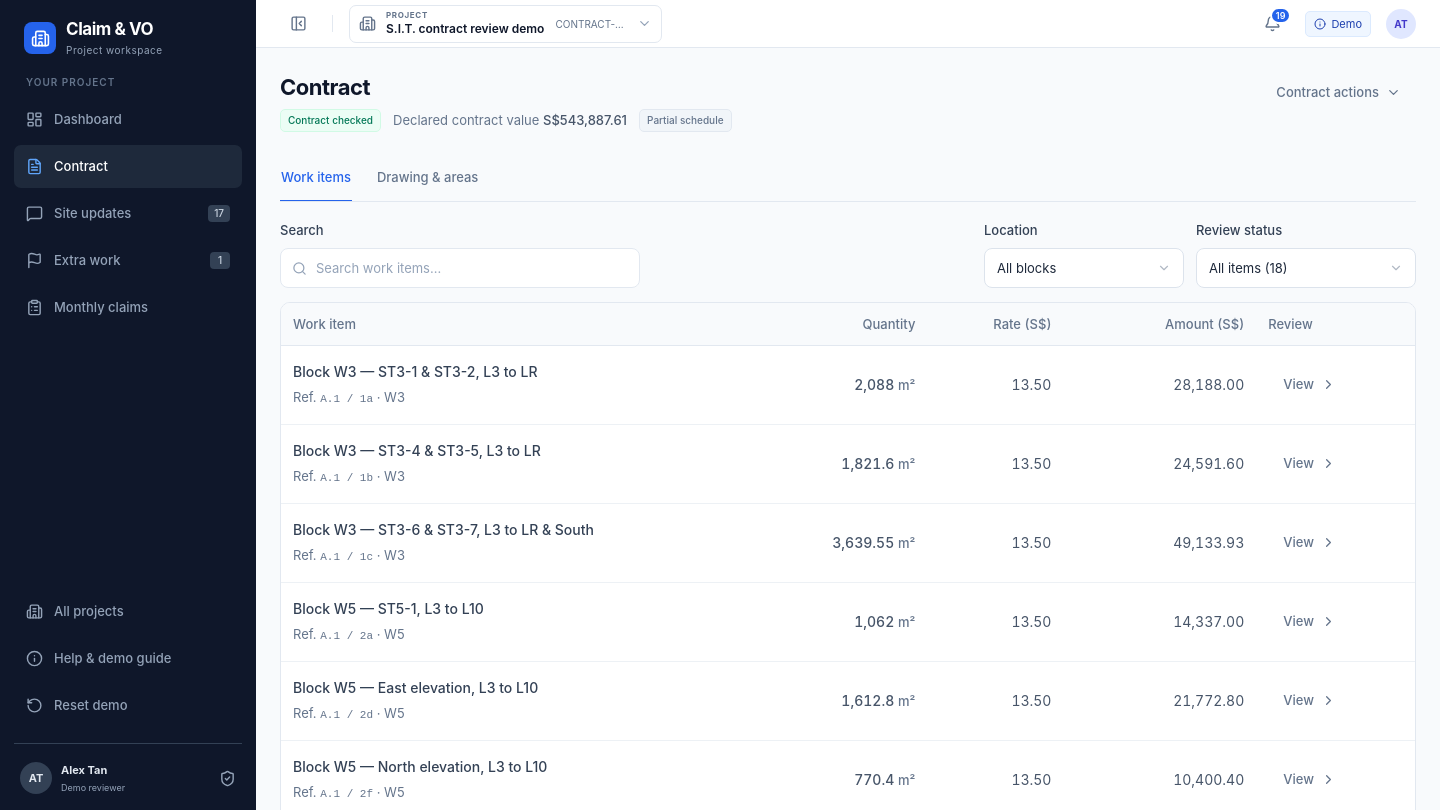
it: contract work list and source review stay connected › keeps one clear action beside visible filters when no items match and restores the list without changing saved claims
The image size is (1440, 810).
In the field named "Search work items": (472, 268) left=316, top=249, right=628, bottom=287, type "no-such-contract-work-item"
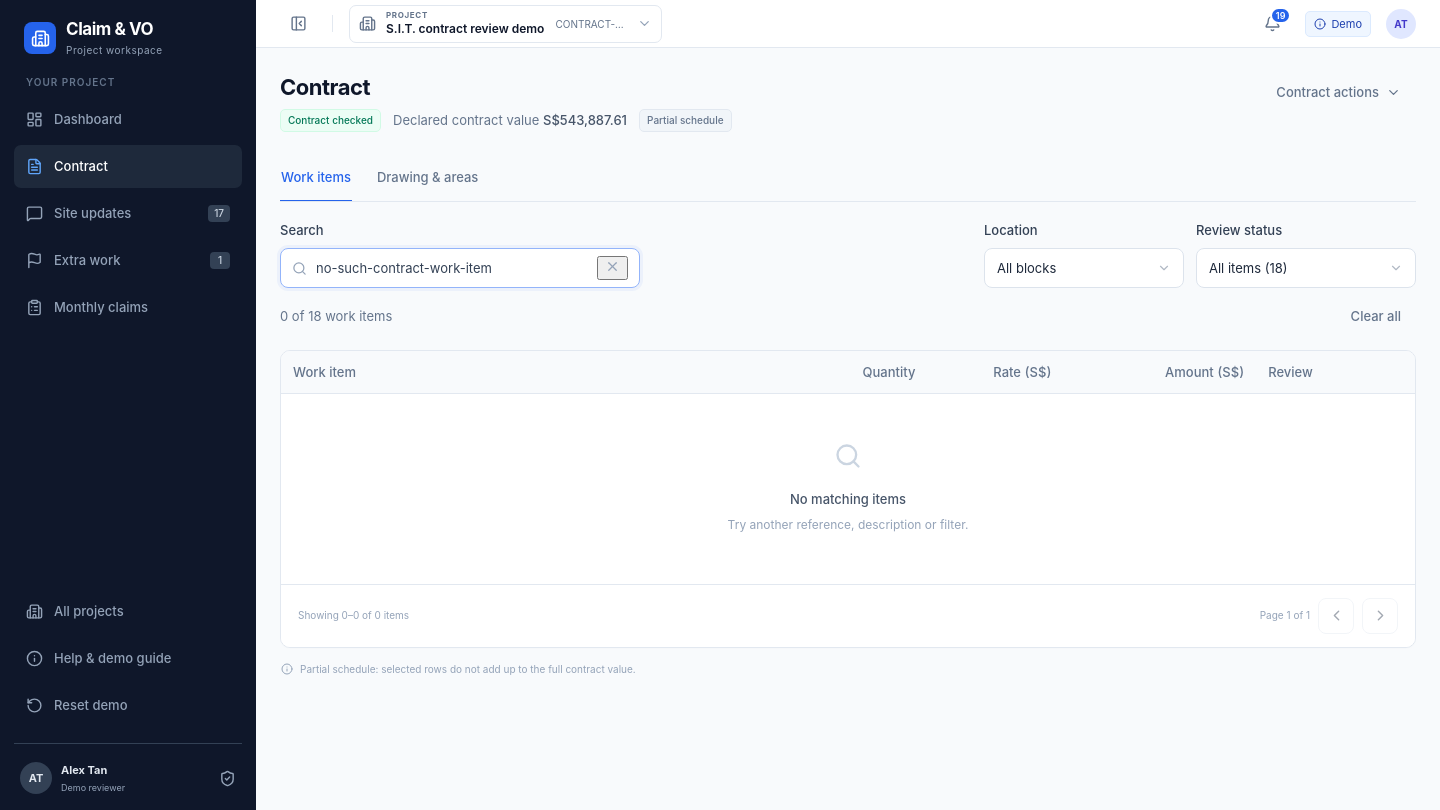
Expected: the dropdown named "Filter by block" is shown, left=984, top=248, right=1184, bottom=288
Result: the heading "No matching items" is shown at left=790, top=491, right=906, bottom=507
Result: the number of buttons "Clear all" is 1
Click the button "Clear all": (1376, 316) left=1336, top=296, right=1416, bottom=336
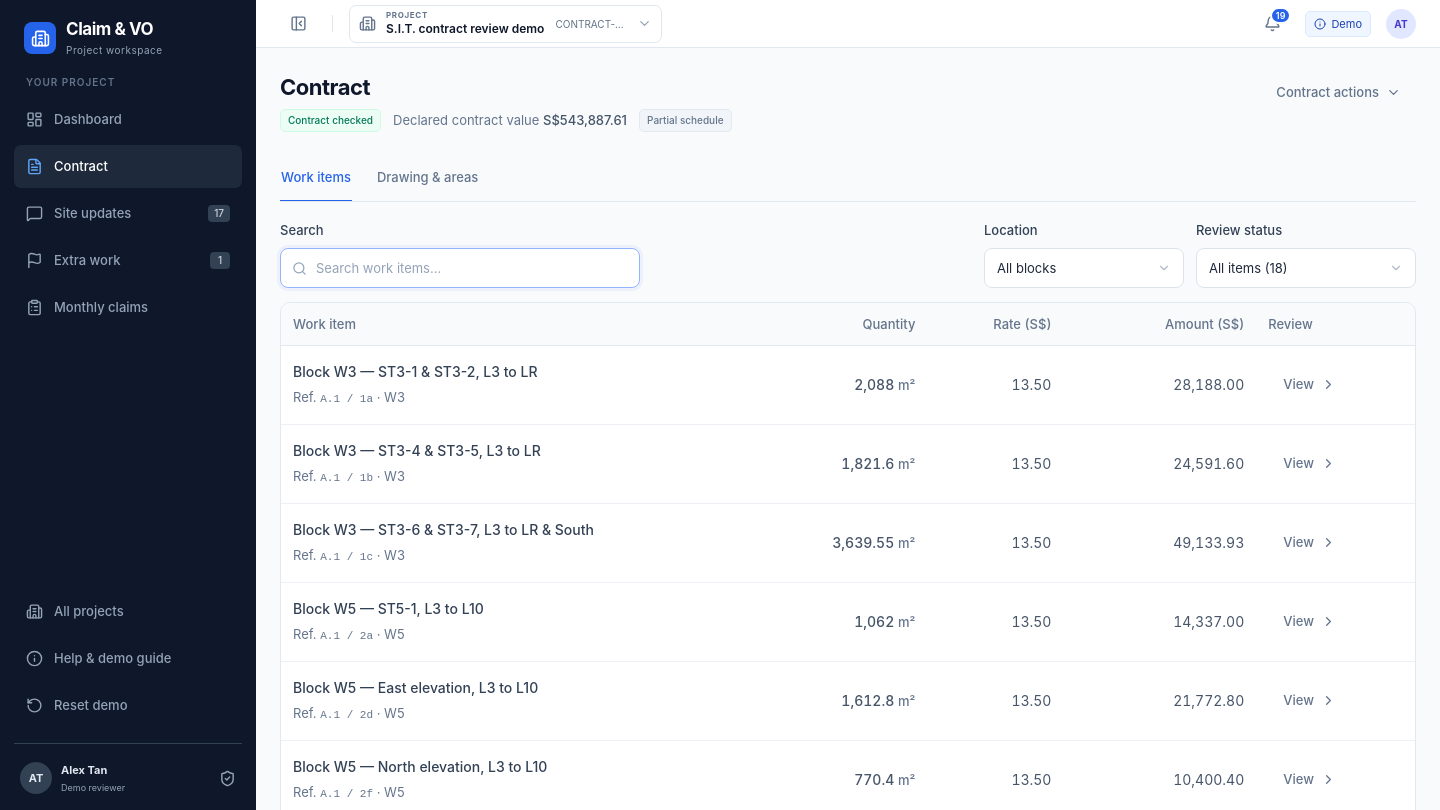
Result: the field named "Search work items" is empty at left=316, top=249, right=628, bottom=287
Result: the heading "No matching items" is gone
Result: the button "Clear all" is gone
